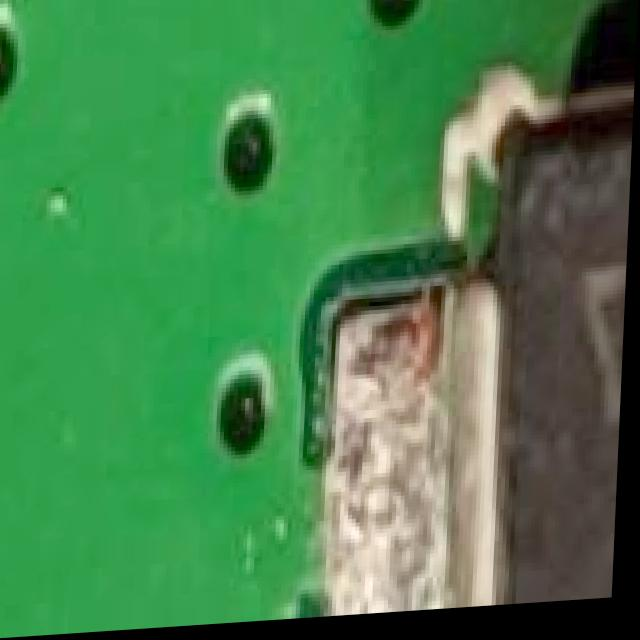diode: (418, 54, 637, 617)
